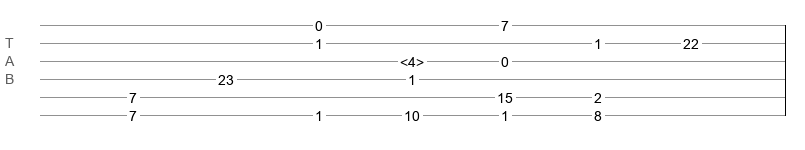0: (315, 18, 323, 28), (501, 54, 509, 64)
1: (315, 36, 323, 46), (315, 108, 323, 118), (408, 72, 416, 82), (501, 108, 509, 118), (594, 36, 602, 46)
10: (404, 108, 420, 118)
15: (497, 90, 513, 100)
2: (594, 90, 602, 100)
22: (683, 36, 699, 46)
23: (218, 72, 234, 82)
7: (129, 108, 137, 118), (129, 90, 137, 100), (501, 18, 509, 28)
8: (594, 108, 602, 118)
harmonic: (400, 54, 424, 64)
